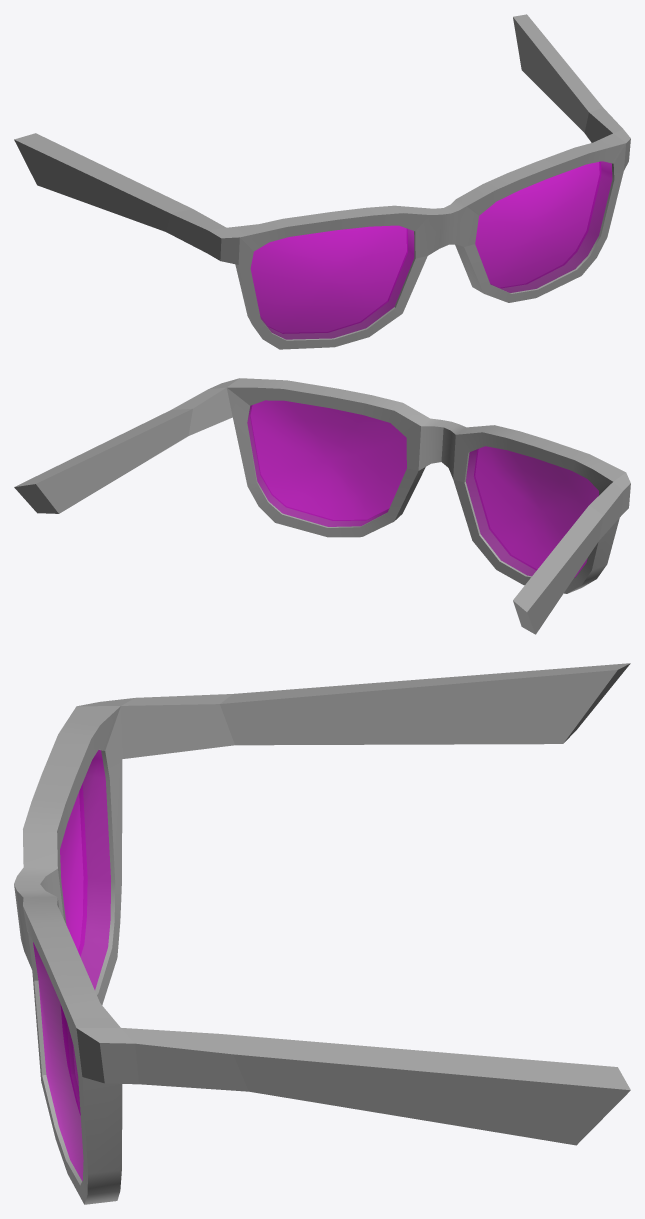
The model's file is glasses.fbx.
The picture shows the model from 3 angles, top to bottom: view 1: azimuth 30°, elevation 25°; view 2: azimuth 150°, elevation 25°; view 3: azimuth 270°, elevation 25°; orthographic projection. The views are drawn at different scales.
Visible parts, largest first — view 1: glasses; view 2: glasses; view 3: glasses.
Part boxes in pixels (box(x1,y1,x2,y2)): glasses: box(14, 14, 630, 349); glasses: box(14, 378, 630, 634); glasses: box(14, 663, 630, 1204).
Size of the model in its own units: 17.29 by 4.34 by 10.56.
